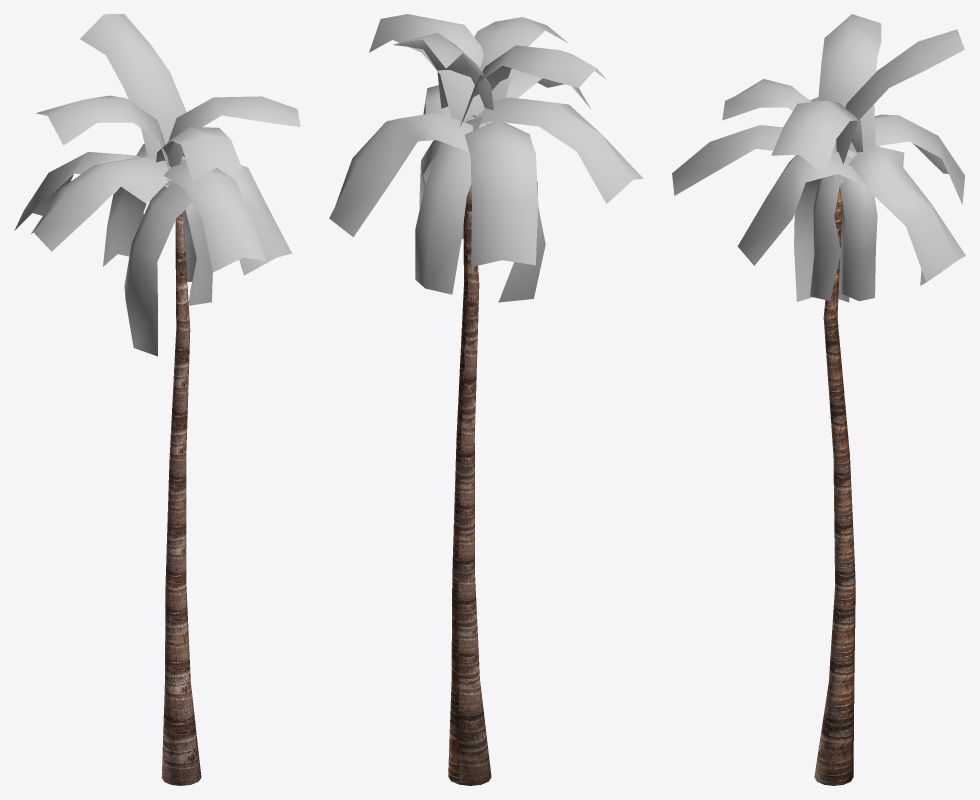
Rendered from palm1.dae.
The picture shows the model from 3 angles, left to right: view 1: azimuth 30°, elevation 25°; view 2: azimuth 150°, elevation 25°; view 3: azimuth 270°, elevation 25°; orthographic projection. The views are drawn at different scales.
Visible parts, largest first — view 1: meshU3D; view 2: meshU3D; view 3: meshU3D.
Boxes of the visible parts, box(x1,y1,x2,y2) form: meshU3D: box(14, 14, 300, 785); meshU3D: box(329, 14, 643, 785); meshU3D: box(672, 14, 965, 785).
Size of the model in its own units: 103 by 288 by 104.
